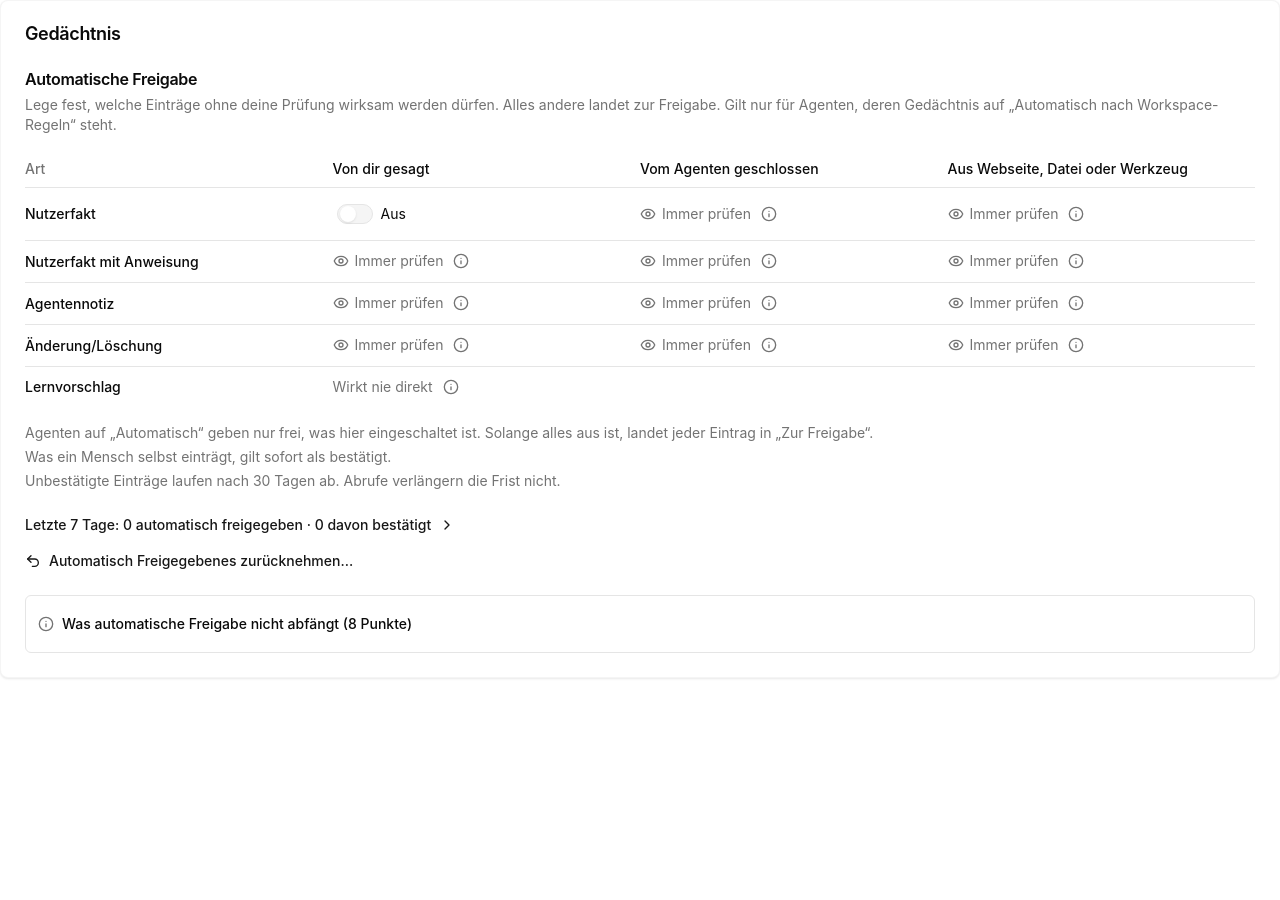
Test case: MemoryApprovalSection (Lernschleife C6, ADR-0053 4.2/4.3) › verlangt die Bestätigung bei jedem Einschalten neu
The image size is (1280, 900).
What coordinates should you click on to do the following:
click the switch
I would click on:
 (371, 214)
Its box is [332,196,410,232].
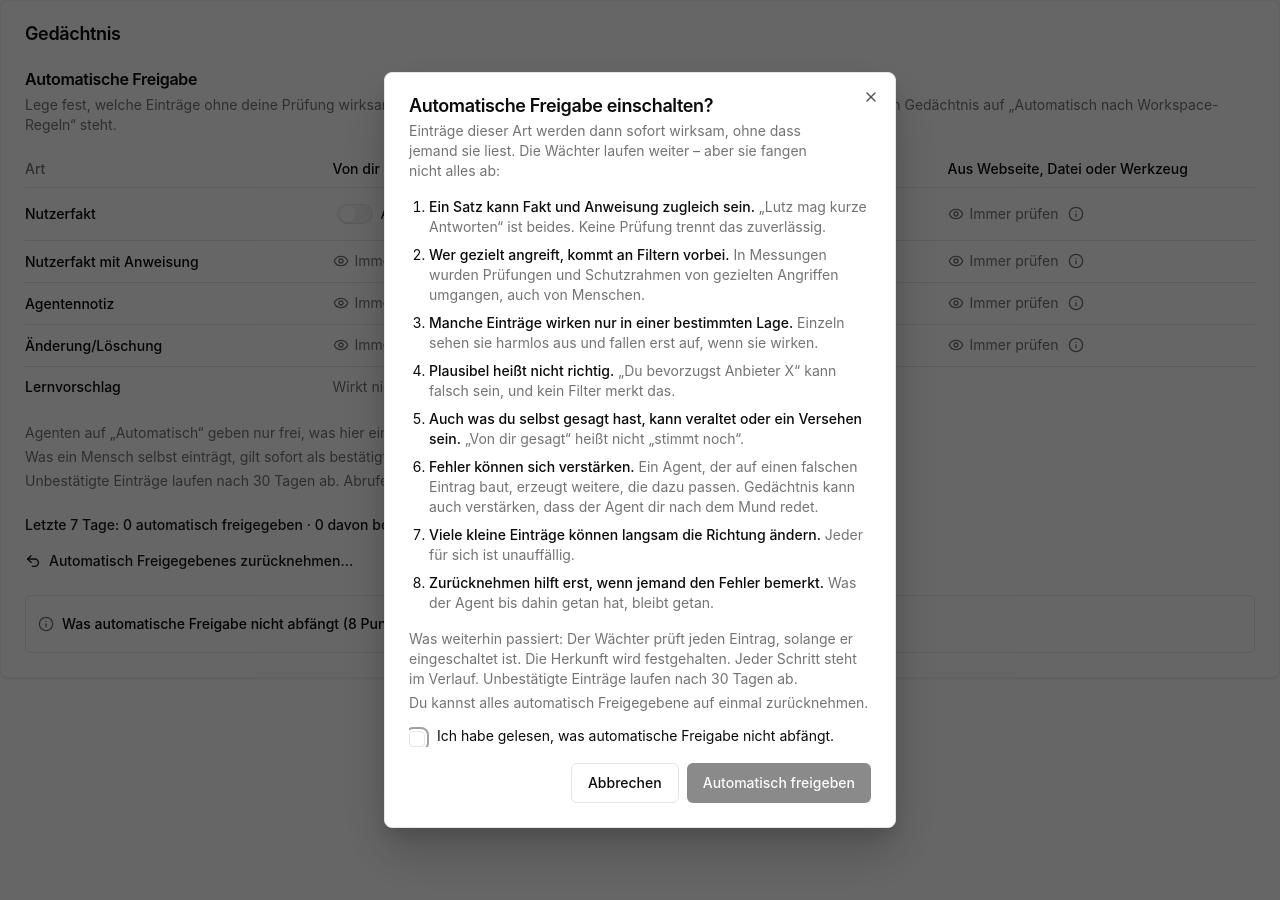
What coordinates should you click on to do the following:
click the checkbox
I would click on:
 (417, 739)
Its box is [401,723,433,755].
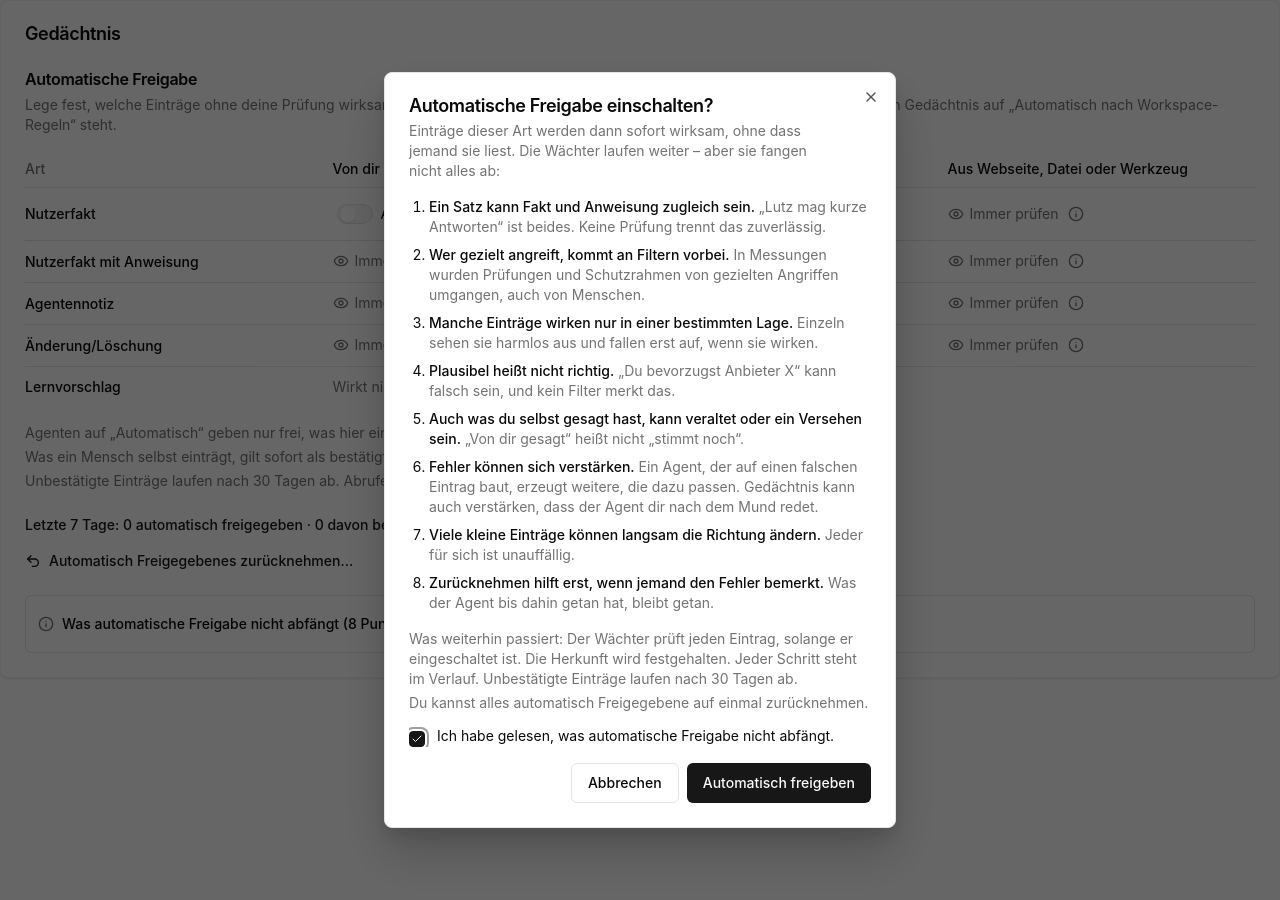
What coordinates should you click on to do the following:
click the button "Abbrechen"
I would click on:
 (625, 783)
Its box is [571,763,679,803].
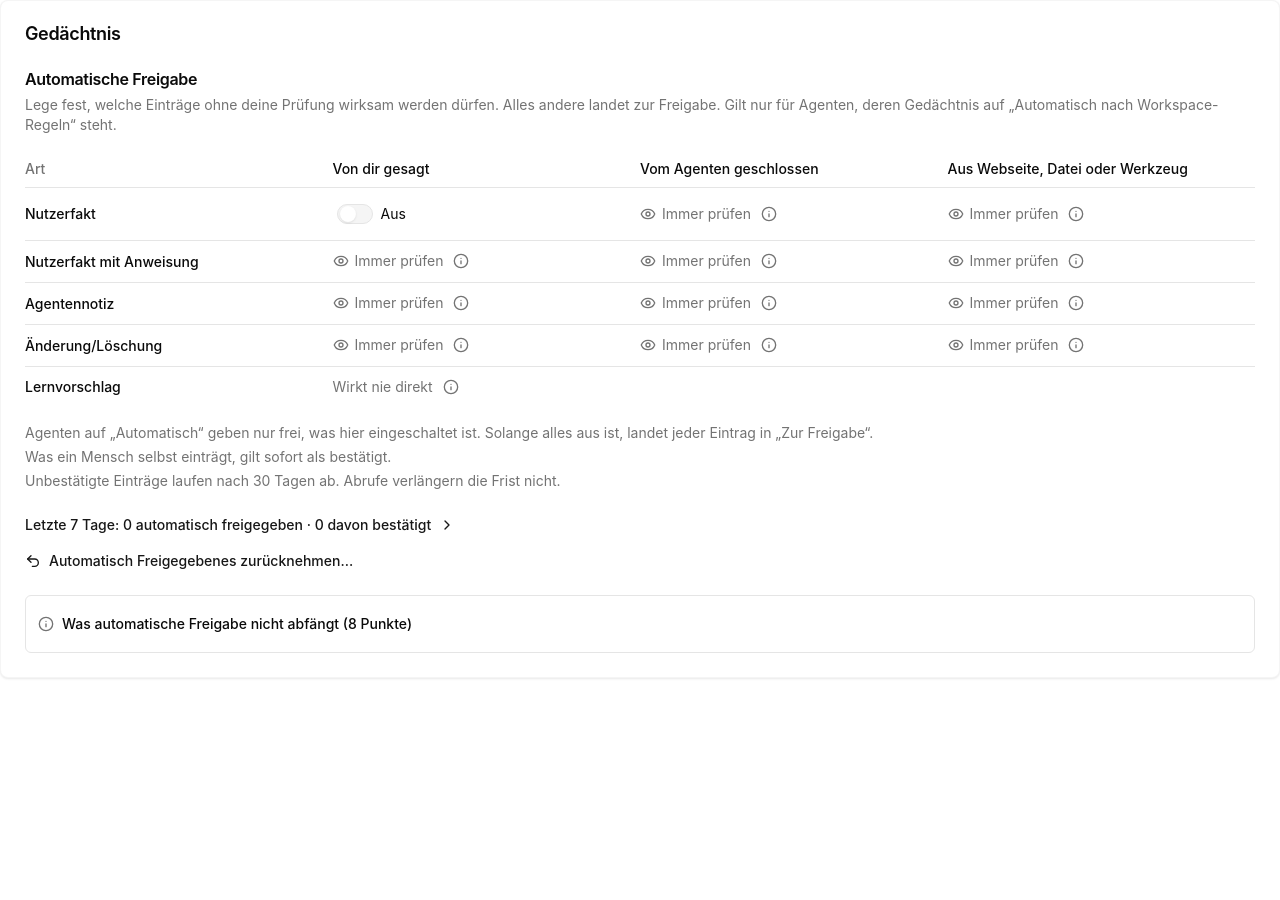
Now the dialog is gone
What coordinates should you click on to do the following:
click the switch
I would click on:
 (371, 214)
Its box is [332,196,410,232].
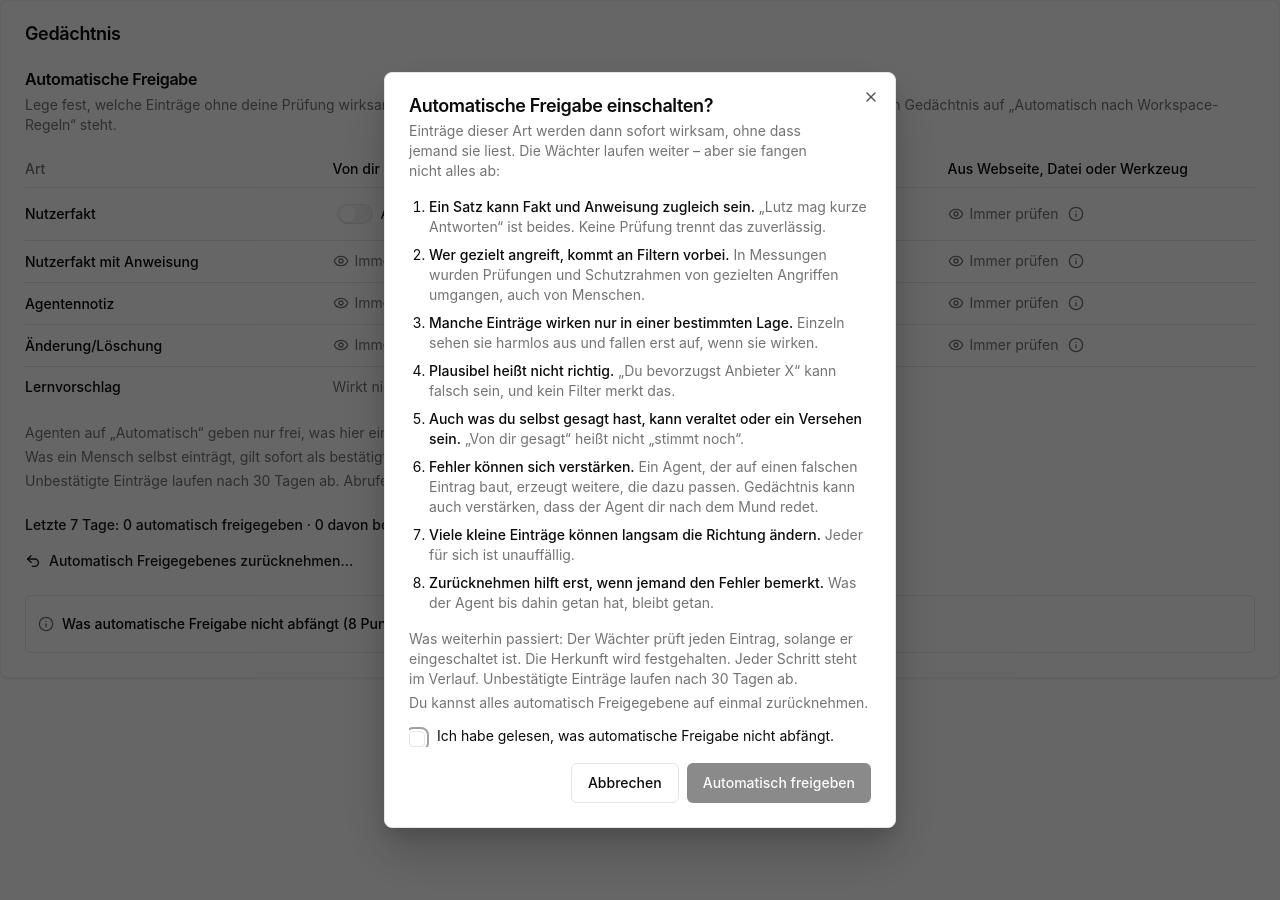
Now the button "Automatisch freigeben" is disabled, box [687,763,871,803]
